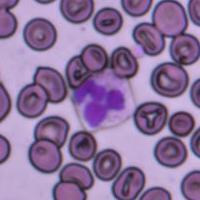N: (72, 70, 136, 131)
